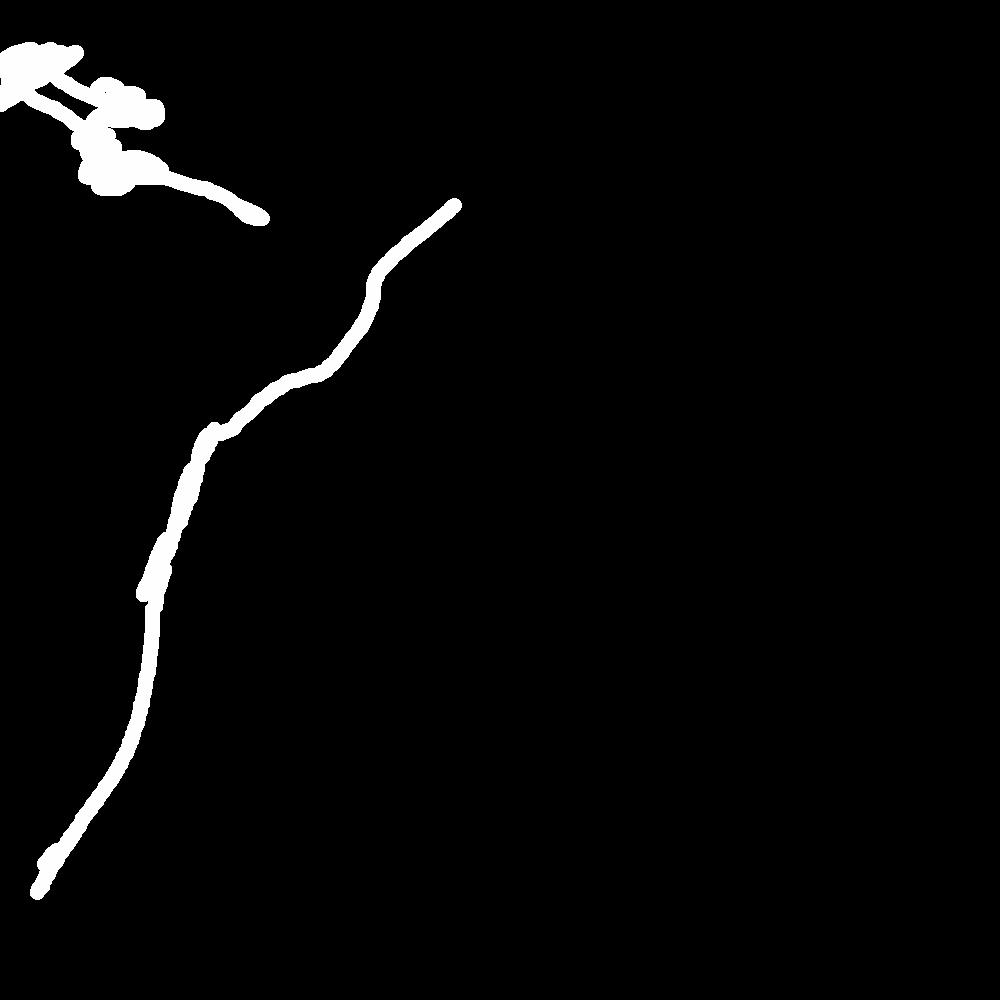illegal: (1, 35, 268, 225), (31, 625, 157, 895), (140, 398, 260, 608)
